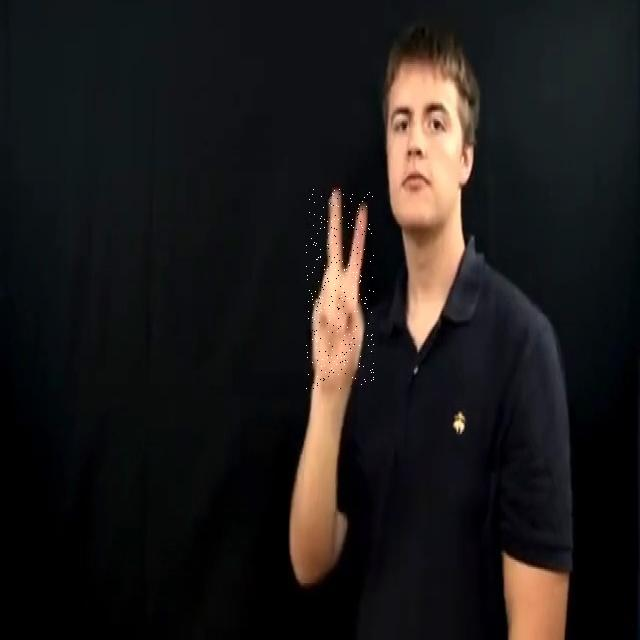vegetables: (306, 188, 374, 389)
